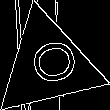O_W: (18, 38, 77, 91)
